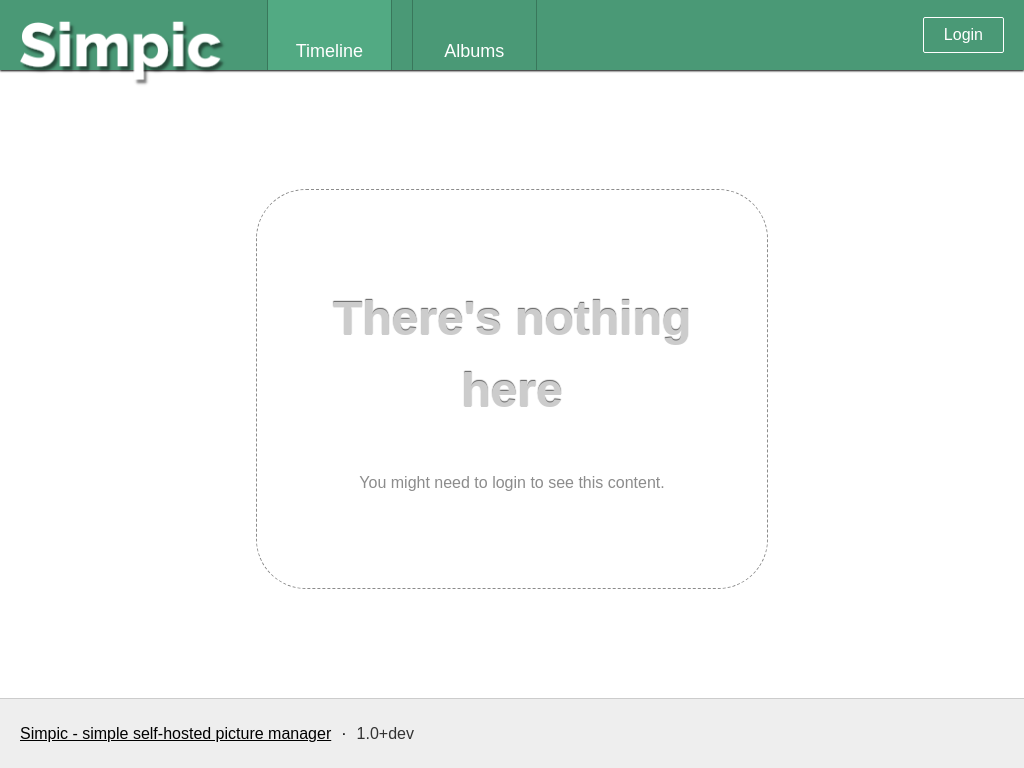
Test: Login test › Shows login form when the button is clicked
Click the button "Login": (964, 35) x1=923 y1=17 x2=1004 y2=53
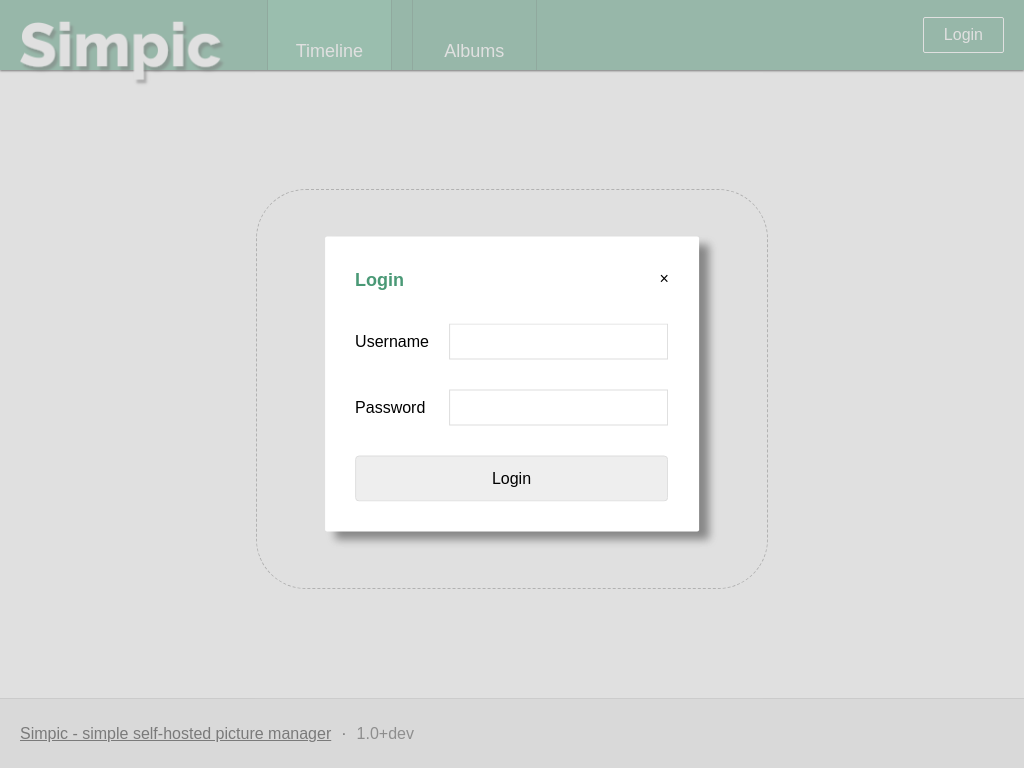
Check: the field with id "username" is shown, box x1=449 y1=324 x2=668 y2=360
Check: the password field labelled "Password" is shown, box x1=449 y1=390 x2=668 y2=426
